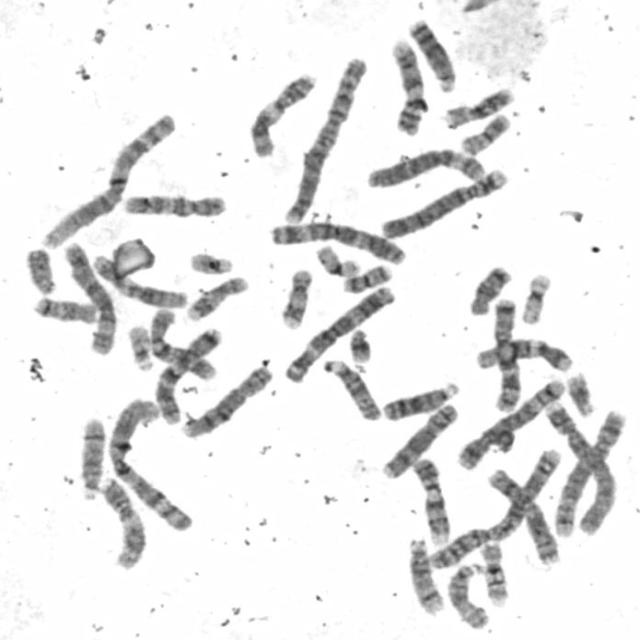A1: (37, 111, 178, 251), (103, 394, 195, 533)
A2: (426, 444, 566, 571), (280, 54, 369, 226)
A3: (280, 282, 398, 385), (264, 218, 407, 266)
B4: (543, 401, 620, 537), (378, 165, 510, 241)
B5: (453, 376, 567, 472), (551, 409, 628, 541)
C10: (145, 305, 217, 382), (119, 190, 228, 219)
C11: (246, 68, 318, 159), (97, 475, 147, 571)
C12: (89, 251, 188, 311), (472, 336, 574, 373)
C6: (61, 240, 118, 358), (362, 144, 488, 191)
C7: (152, 324, 224, 424), (488, 296, 522, 412)
C8: (178, 362, 274, 440), (378, 400, 460, 480)
C9: (387, 36, 427, 138), (409, 454, 451, 546)
D13: (405, 15, 458, 94), (380, 378, 460, 423)
D14: (405, 534, 446, 615), (76, 415, 107, 501)
D15: (320, 356, 382, 422), (446, 560, 492, 632)
E16: (442, 86, 518, 130), (476, 538, 510, 606)
E17: (182, 272, 250, 323), (277, 266, 314, 331)
E18: (465, 262, 512, 317), (29, 294, 98, 326)
F19: (516, 270, 554, 326), (311, 242, 362, 278)
F20: (456, 110, 512, 156), (339, 260, 394, 296)
G21: (562, 371, 596, 418), (345, 325, 374, 364)
G22: (124, 322, 156, 374), (190, 252, 234, 275)
X: (484, 465, 562, 564)
Y: (22, 245, 59, 296)
